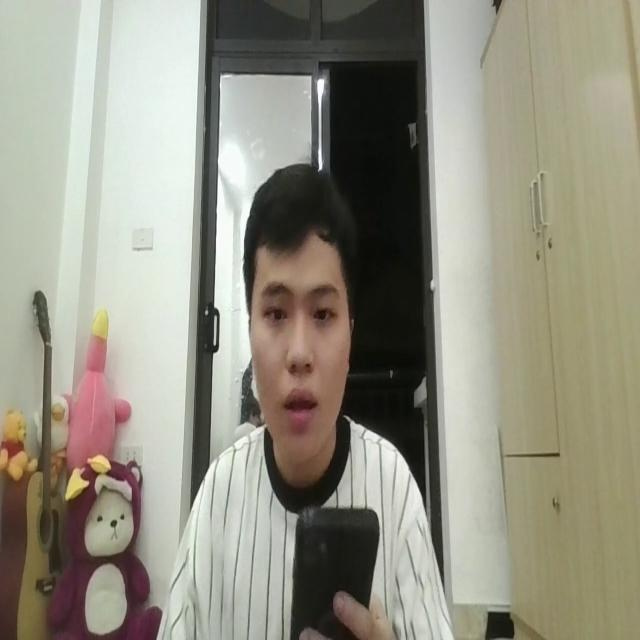phone: (288, 499, 384, 640)
student: (160, 157, 450, 640)
